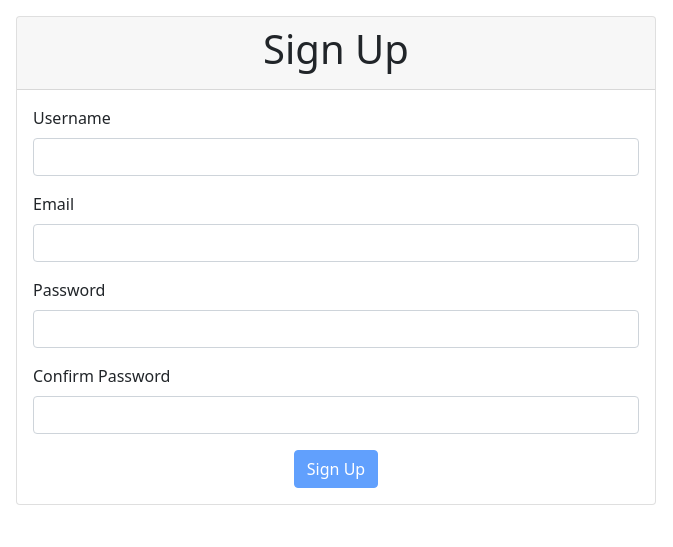
Test: Sign Up Page › Interactions › displays validation message for email
Type "user1" into the field labelled "Username".
click(336, 157); type("user1")  # box [33,138,639,176]
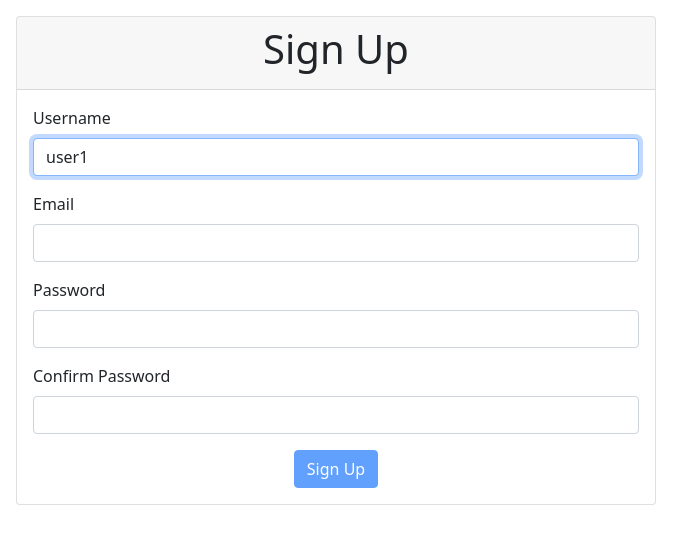
Type "user1@test.com" into the field labelled "Email".
click(336, 243); type("user1@test.com")  # box [33,224,639,262]
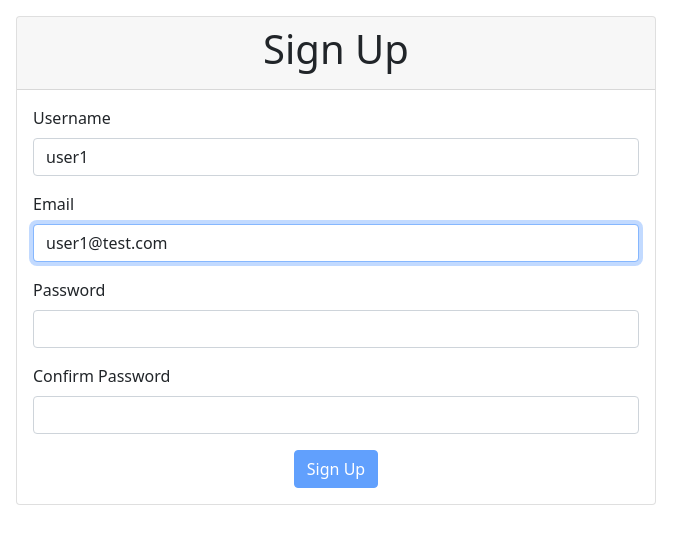
Type "P" into the password field labelled "Password".
click(336, 329); type("P")  # box [33,310,639,348]
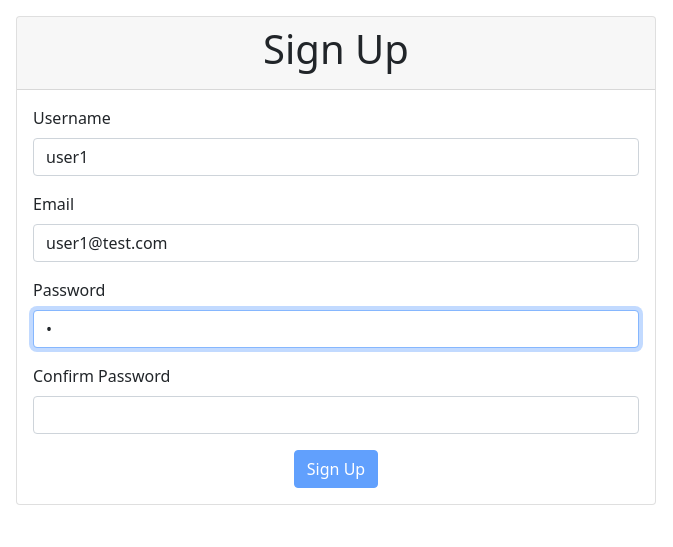
Type "P" into the password field labelled "Confirm Password".
click(336, 415); type("P")  # box [33,396,639,434]
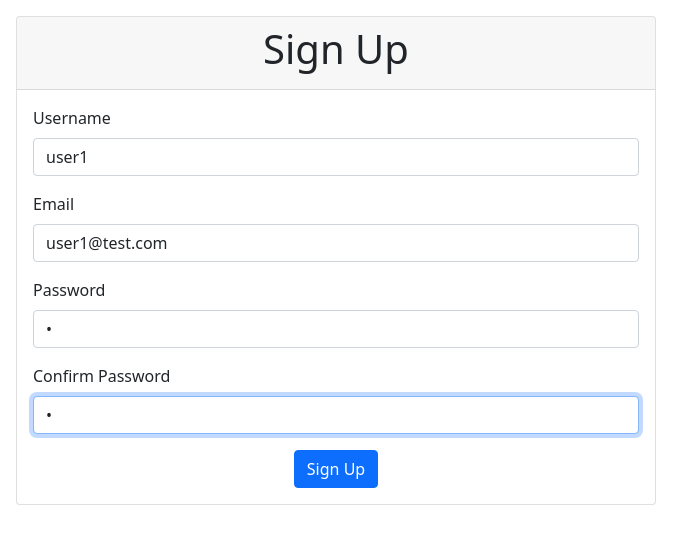
Click the button "Sign Up".
click(336, 469)  # box [294,450,378,488]
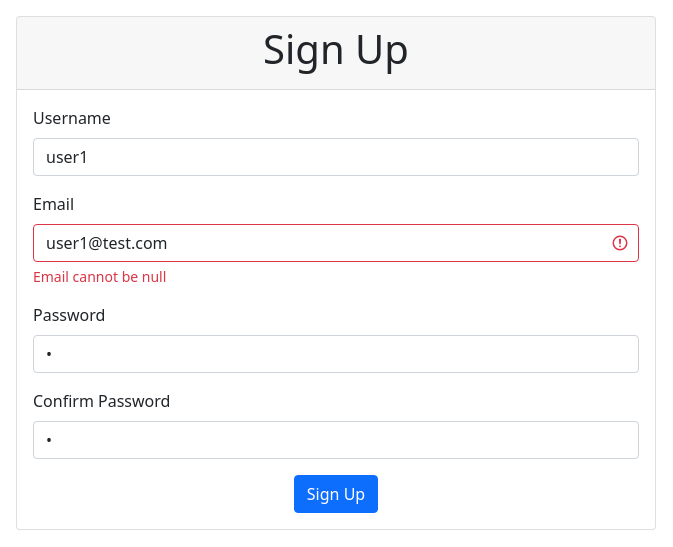
Check: the text "Email cannot be null" is shown, box [33,267,166,286]
